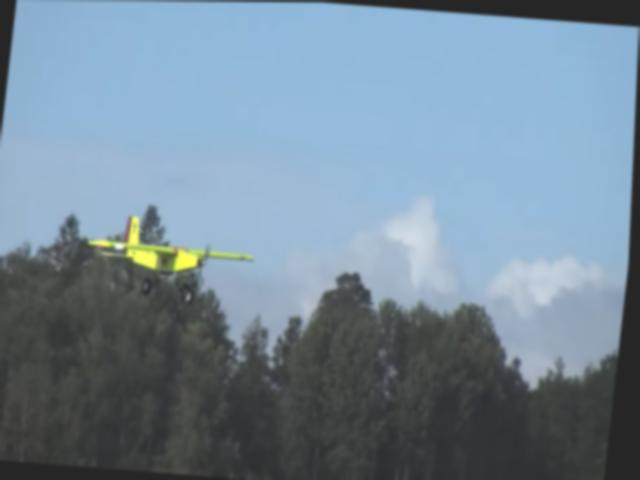plane: (81, 212, 260, 310)
